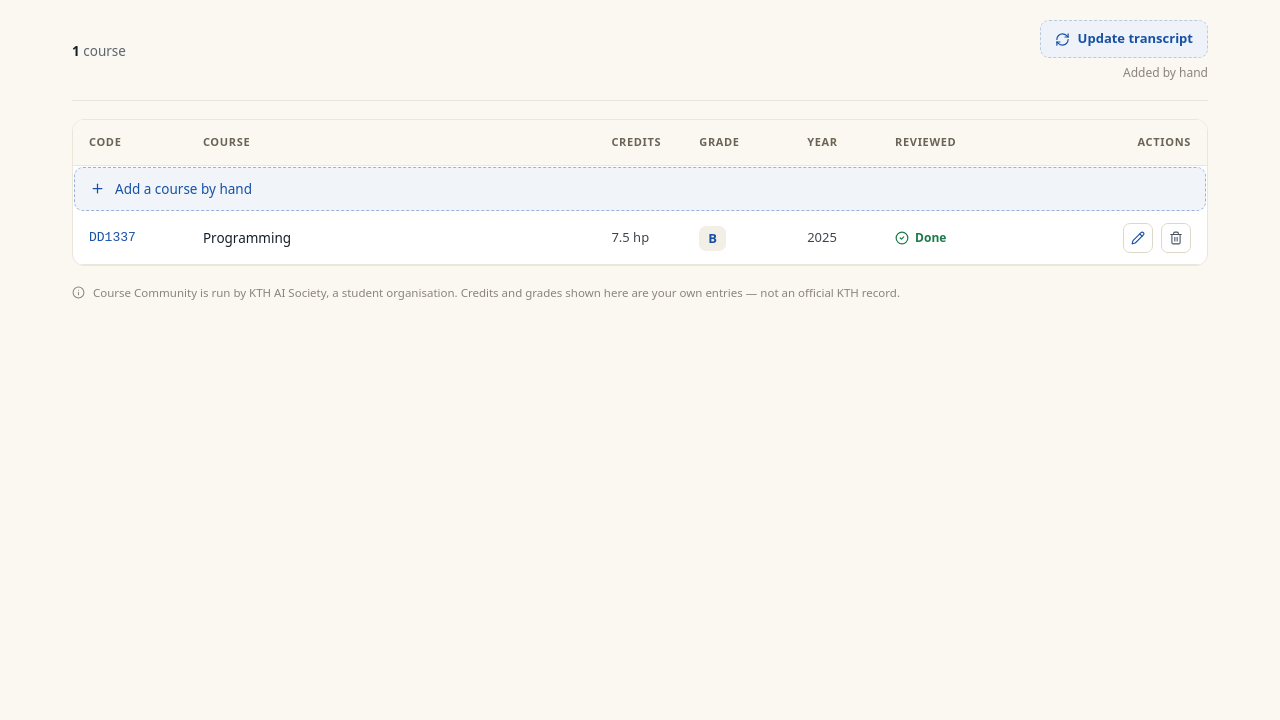
Test: removing › asks before it removes anything
This screenshot has width=1280, height=720.
Click the button named "Remove DD1337 from your taken courses". click: (1176, 238)
box: x1=1161 y1=223 x2=1191 y2=253
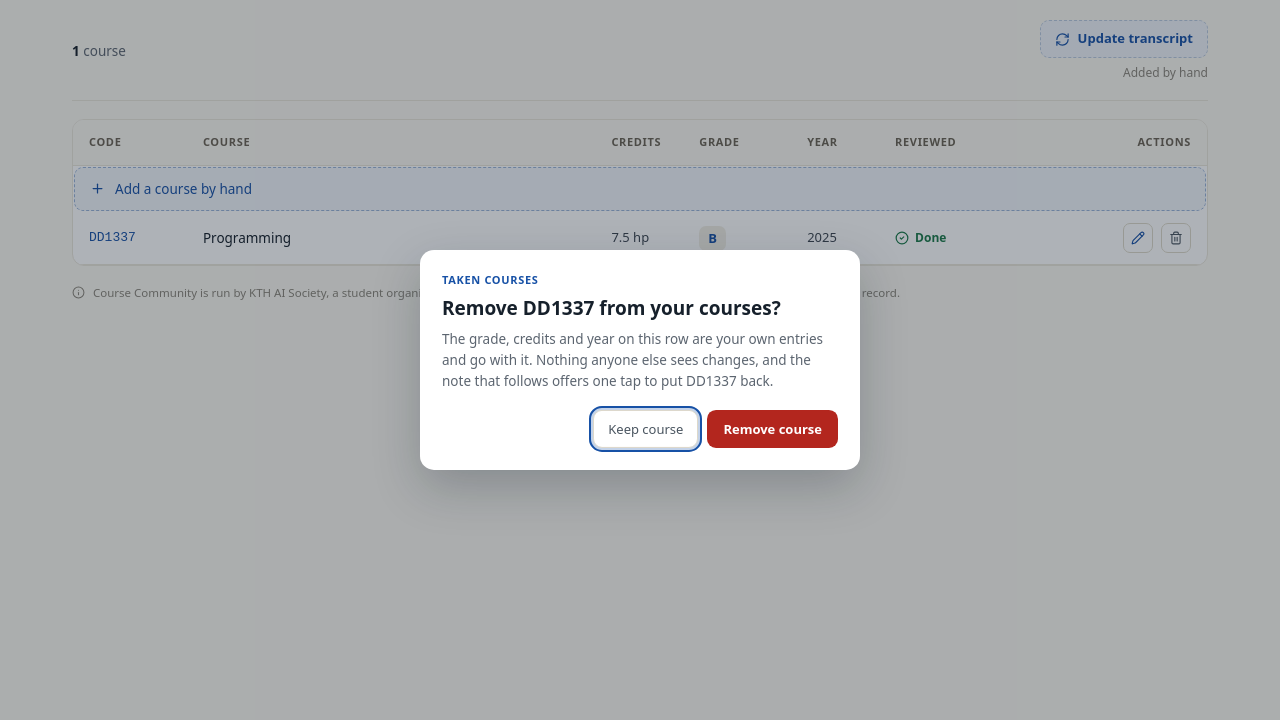
Expected: the heading "Remove DD1337 from your courses?" is shown, x1=442 y1=296 x2=838 y2=320
